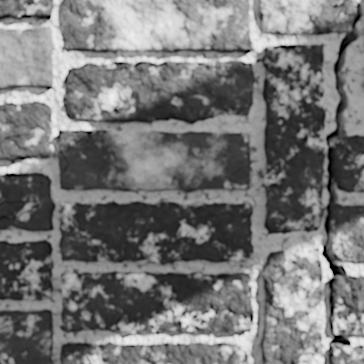brick: (59, 202, 252, 264), (65, 60, 254, 123), (263, 45, 325, 233), (61, 272, 253, 332), (58, 131, 250, 191), (63, 0, 251, 52), (262, 249, 322, 363), (0, 27, 52, 89), (260, 0, 355, 33), (0, 240, 52, 300), (0, 173, 54, 230), (0, 101, 52, 160), (103, 342, 247, 363), (0, 310, 52, 363), (330, 204, 363, 261), (332, 276, 363, 333), (333, 135, 363, 191), (0, 0, 53, 18), (59, 130, 96, 149), (330, 346, 363, 363), (60, 343, 87, 363), (89, 344, 101, 363)
crack: (321, 2, 363, 361), (57, 129, 111, 173), (96, 60, 144, 71), (330, 0, 346, 23), (96, 344, 105, 363), (85, 344, 91, 363)
